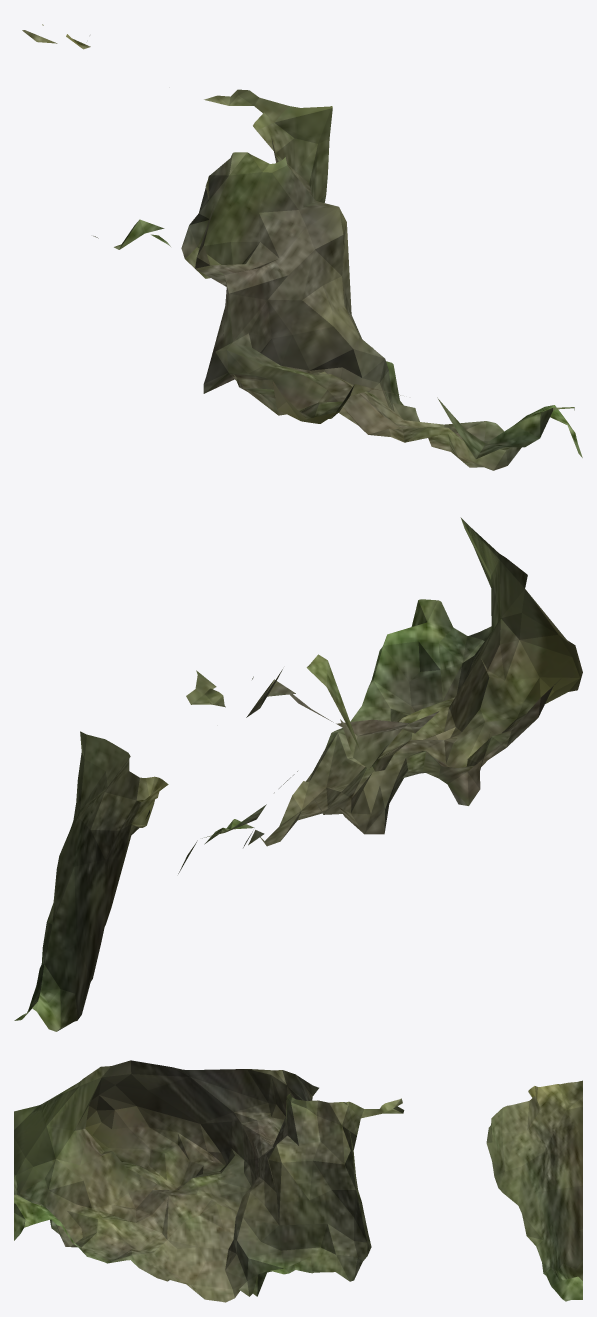
The picture shows the model from 3 angles, top to bottom: view 1: azimuth 30°, elevation 25°; view 2: azimuth 150°, elevation 25°; view 3: azimuth 270°, elevation 25°; orthographic projection. The views are drawn at different scales.
Bounding box in the file's own units: 3.89 × 4 × 11.8.
Materials: 1 (1 with a texture image).
